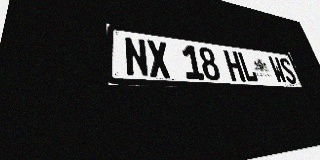1: (180, 44, 205, 80)
8: (198, 46, 221, 81)
H: (223, 50, 246, 82)
L: (237, 52, 259, 82)
N: (123, 36, 150, 77)
S: (278, 57, 298, 84)
W: (267, 56, 288, 84)
X: (146, 40, 172, 78)
